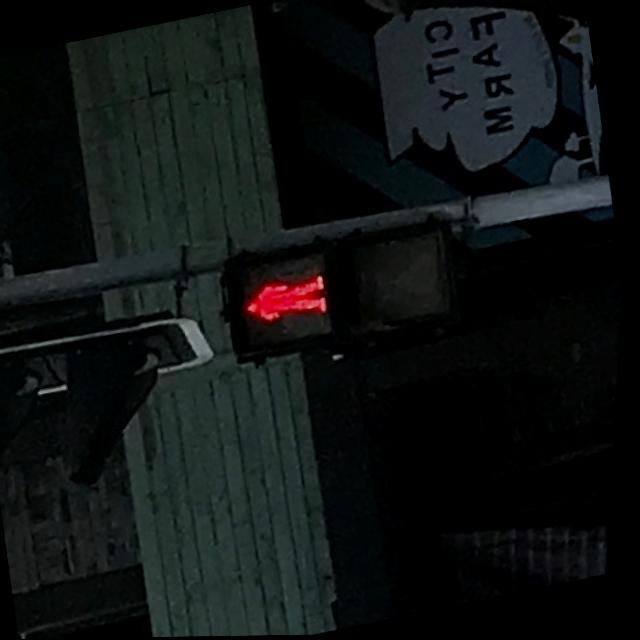red_light: (228, 246, 341, 351)
